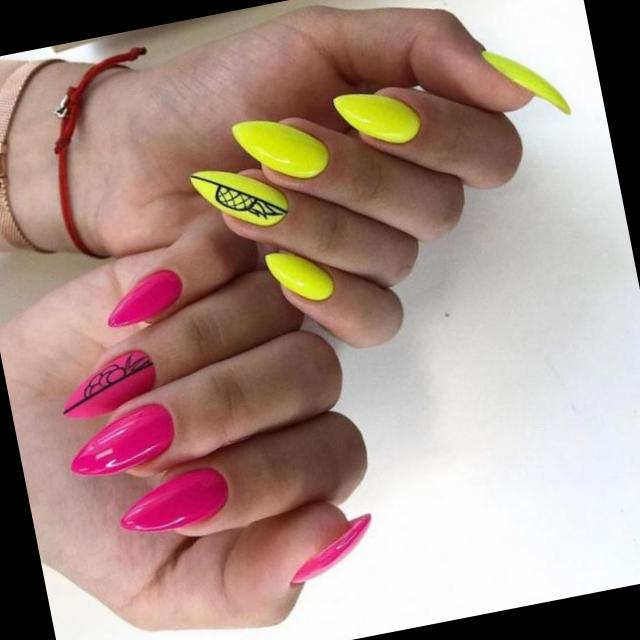Nail: (71, 405, 175, 476), (120, 468, 228, 532), (64, 350, 156, 418), (232, 120, 329, 179), (291, 514, 372, 584), (482, 51, 571, 113), (190, 171, 289, 226), (333, 94, 421, 144), (108, 270, 183, 327), (265, 252, 335, 301)
